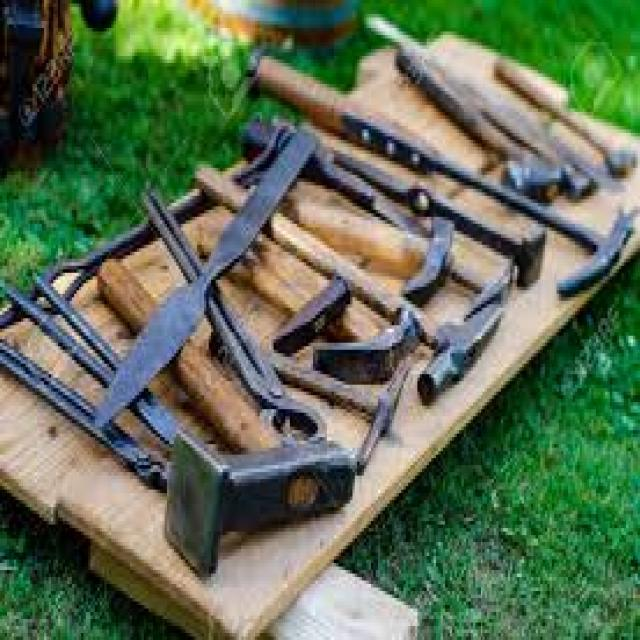hammer: (95, 222, 362, 589), (190, 154, 508, 402), (168, 152, 428, 383), (397, 38, 582, 210)
